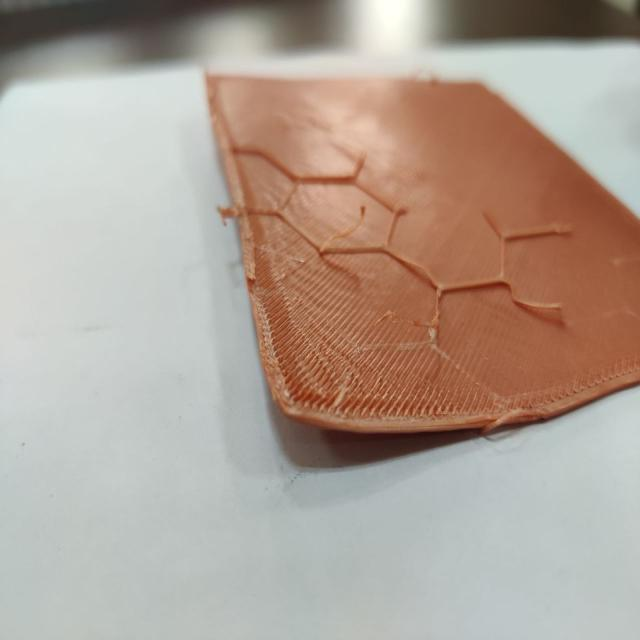Warping: (285, 369, 460, 489)
